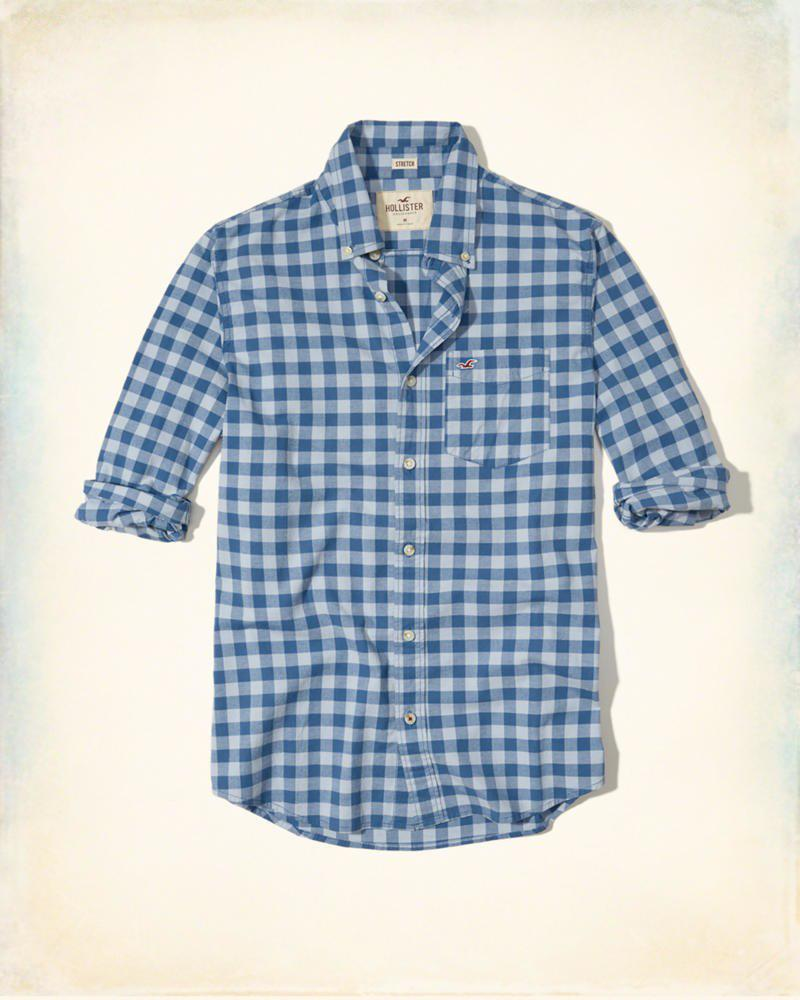teeshirt: (71, 124, 747, 874)
